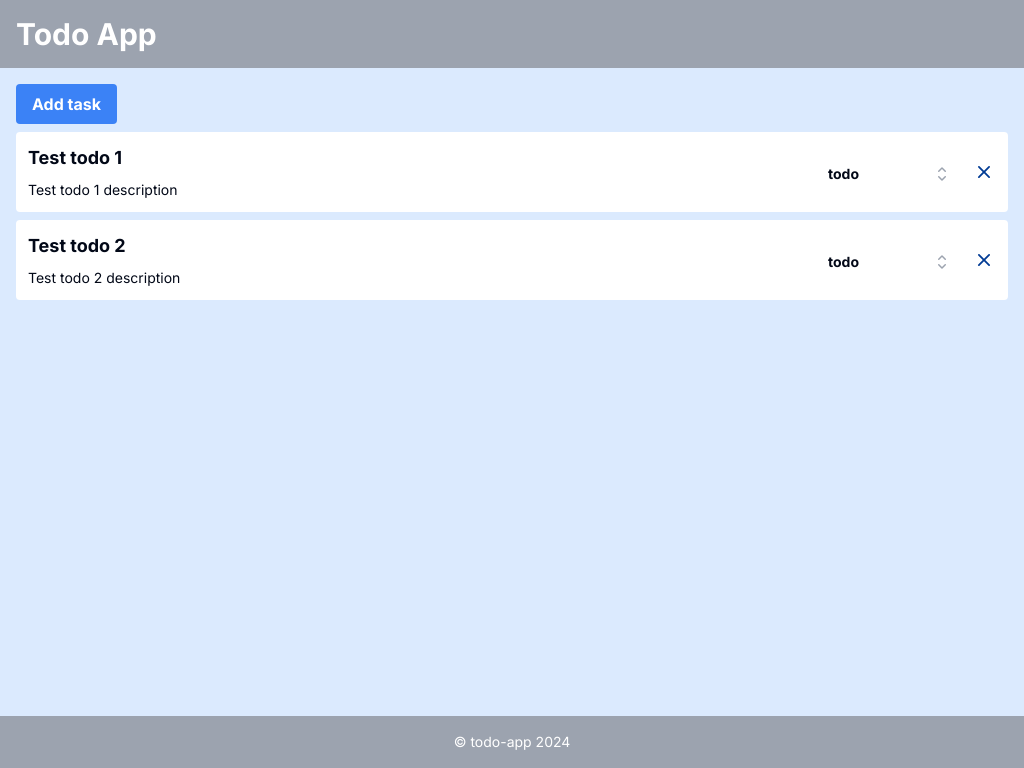
Test: Remove todo › Should remove todo
Expected: the number of list items is 2, [16,132,1008,212]; [16,220,1008,300]
Click the button with test id "remove-todo" in the row of "Test todo 1 description": (984, 172) [972,160,996,184]
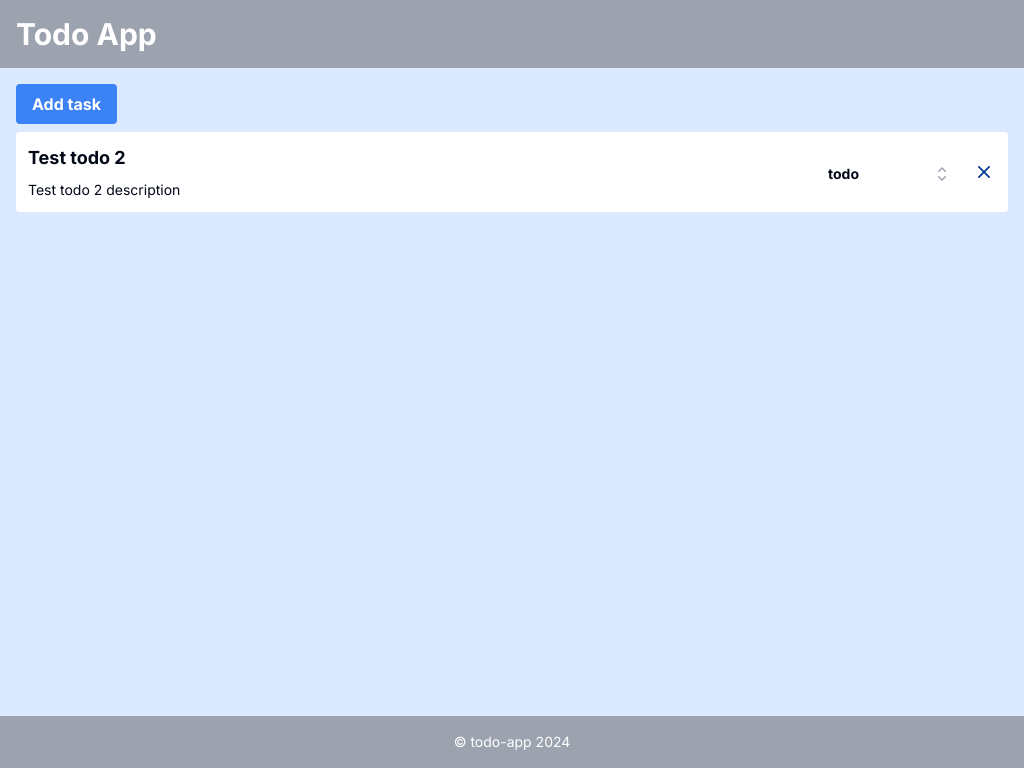
Expected: the text with test id "todo-title" reads "Test todo 2", [28,147,126,168]
Expected: the number of list items is 1, [16,132,1008,212]
